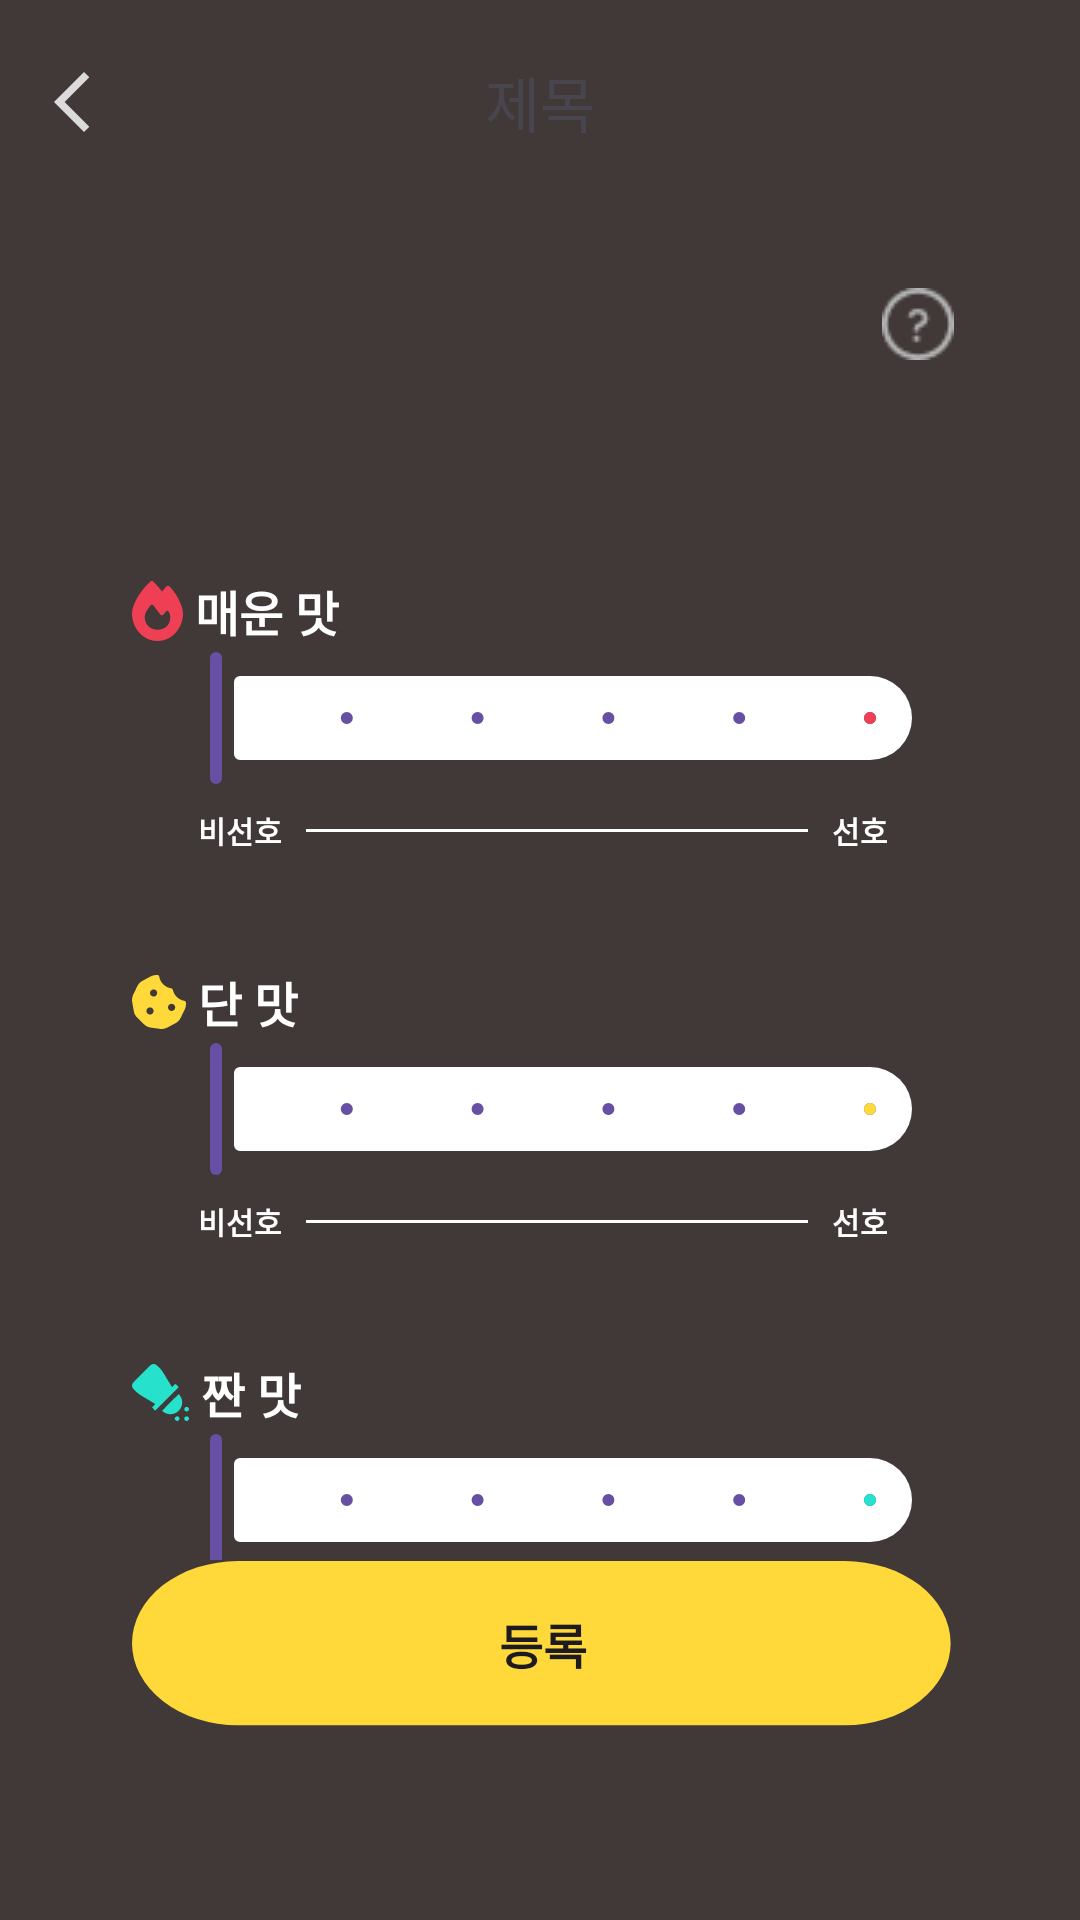

Icons on this 1080w x 1920h Android screen, each with the point to tap as point (x, y):
arrow back: point (71, 102)
help: point (918, 324)
